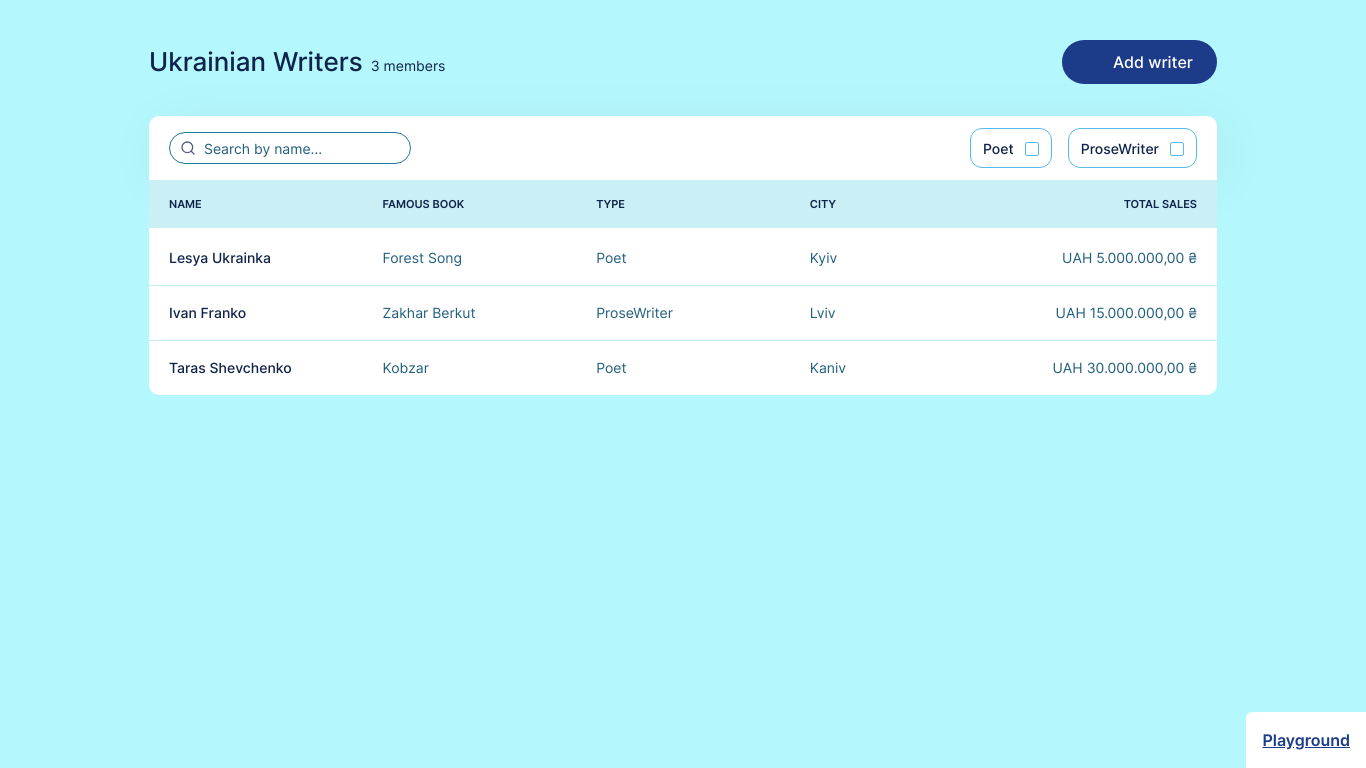
PeoplePage › PeoplePage search and filter behaviour › should search by name and filter the table
Click the checkbox labelled "Poet" at (1032, 148), box [1025, 142, 1039, 156]
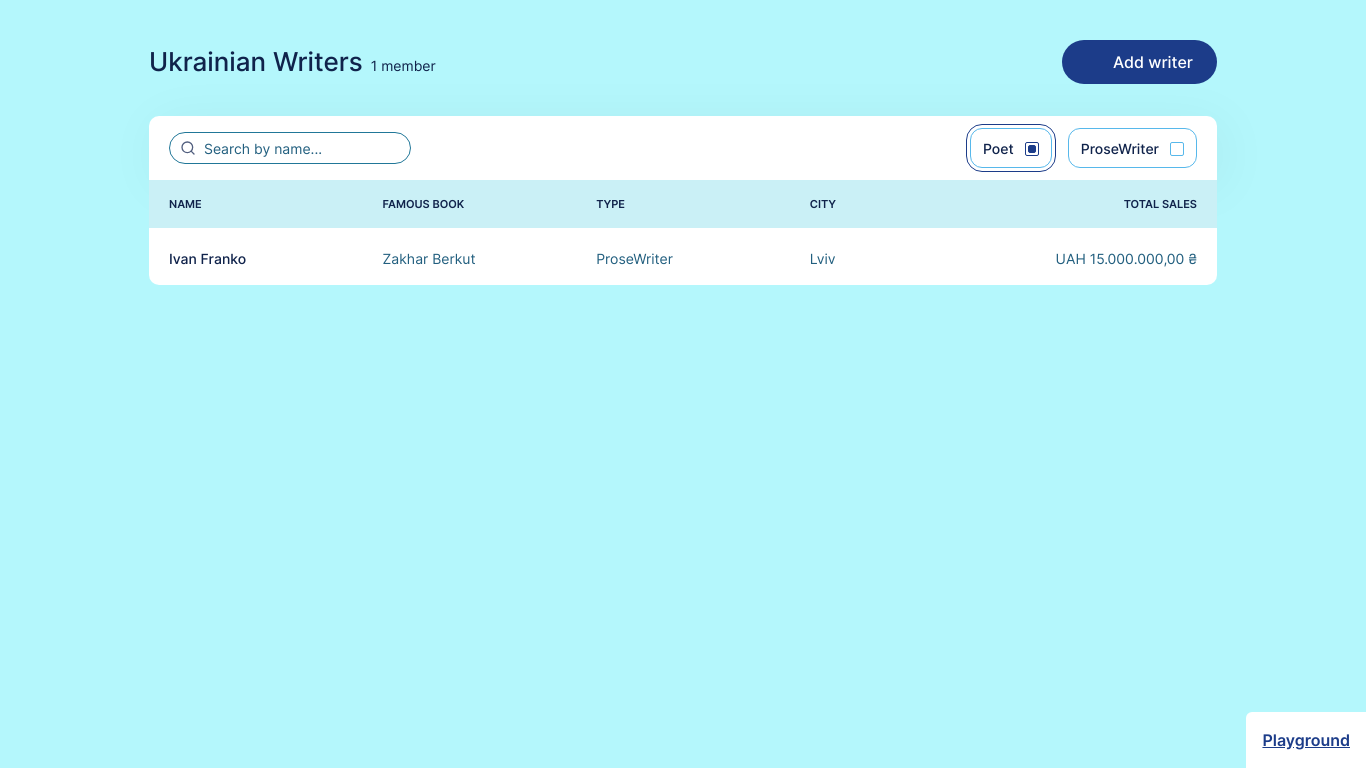
Type "ann" into the search field labelled "Search by name..." at (290, 148), box [169, 132, 411, 164]
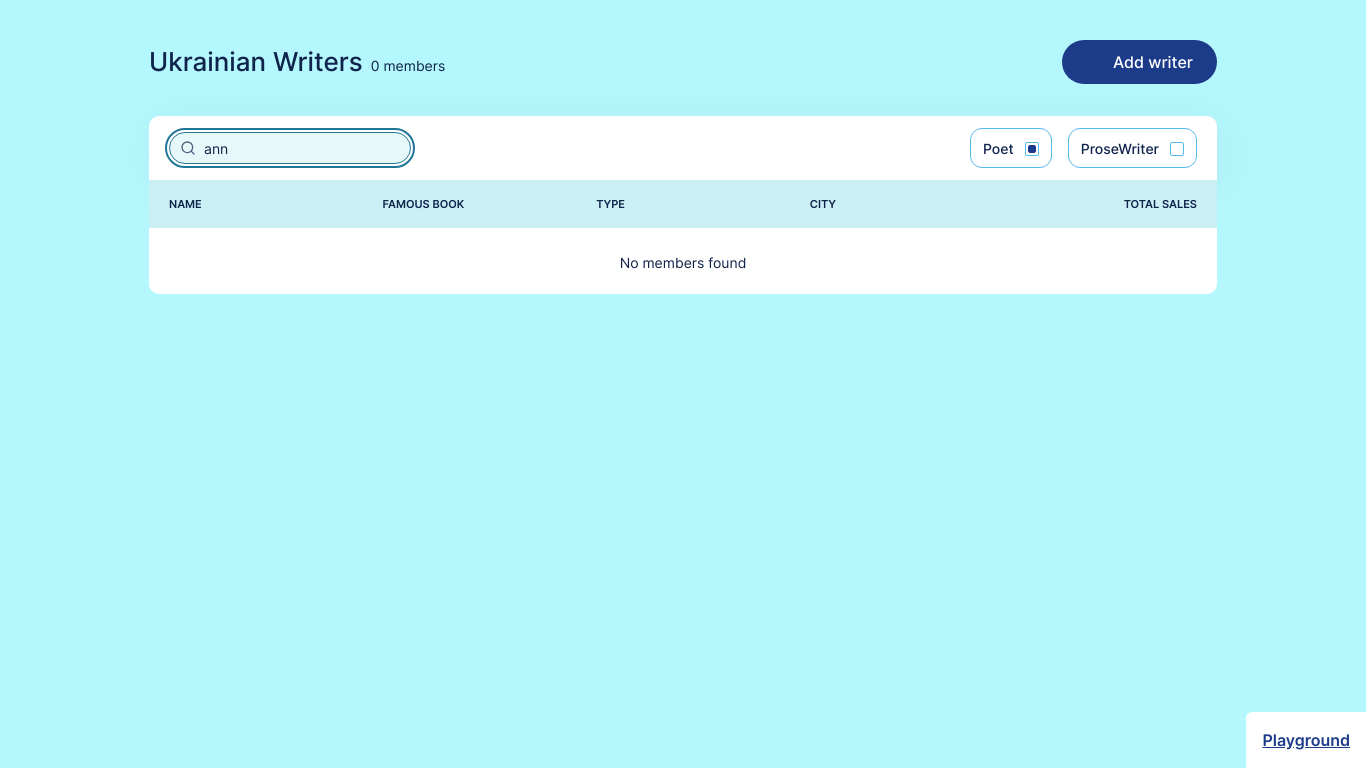
Expected: the number of rows is 1, [149, 180, 1217, 230]
Now the text with test id "members-number" reads "0 members", box [371, 57, 445, 74]
Now the text "Ivan Franko" is gone
